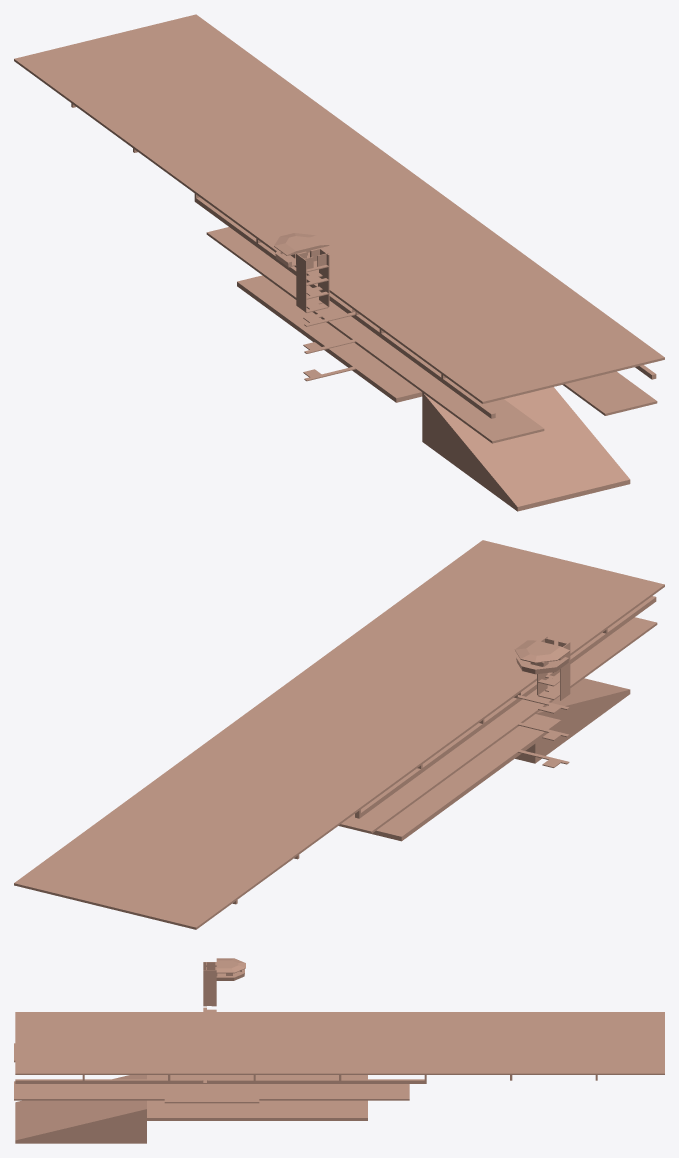
File: chassis_carrier.dae
3 views of the same model, one above another, from view 1: azimuth 30°, elevation 25°; view 2: azimuth 150°, elevation 25°; view 3: azimuth 270°, elevation 25° (orthographic). The views are drawn at different scales.
Parts seen in each view (by area): view 1: group_19, group_12, group_18, group_30, group_20, group_46, group_0; view 2: group_19, group_18, group_30, group_12, group_46, group_0; view 3: group_19, group_20, group_12, group_30, group_33, group_35, group_47, group_0, group_4.
Part boxes in pixels (bbox=[...]): group_19: bbox=[14, 14, 664, 403]; group_12: bbox=[422, 387, 630, 511]; group_18: bbox=[206, 227, 544, 443]; group_30: bbox=[237, 275, 422, 402]; group_20: bbox=[562, 371, 657, 415]; group_46: bbox=[194, 197, 495, 418]; group_0: bbox=[274, 233, 329, 255]; group_19: bbox=[14, 540, 664, 929]; group_18: bbox=[339, 617, 657, 833]; group_30: bbox=[339, 714, 561, 841]; group_12: bbox=[515, 678, 630, 763]; group_46: bbox=[355, 596, 656, 818]; group_0: bbox=[515, 640, 569, 663]; group_19: bbox=[15, 1012, 664, 1074]; group_20: bbox=[14, 1081, 409, 1100]; group_12: bbox=[15, 1075, 146, 1143]; group_30: bbox=[147, 1075, 367, 1120]; group_33: bbox=[15, 1079, 426, 1083]; group_35: bbox=[203, 970, 216, 1005]; group_47: bbox=[164, 1099, 259, 1103]; group_0: bbox=[216, 958, 245, 973]; group_4: bbox=[170, 1075, 253, 1079].
Size of the model in its own units: 2112 by 7382 by 1496.
